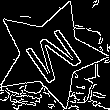M_SE: (15, 20, 85, 88)
